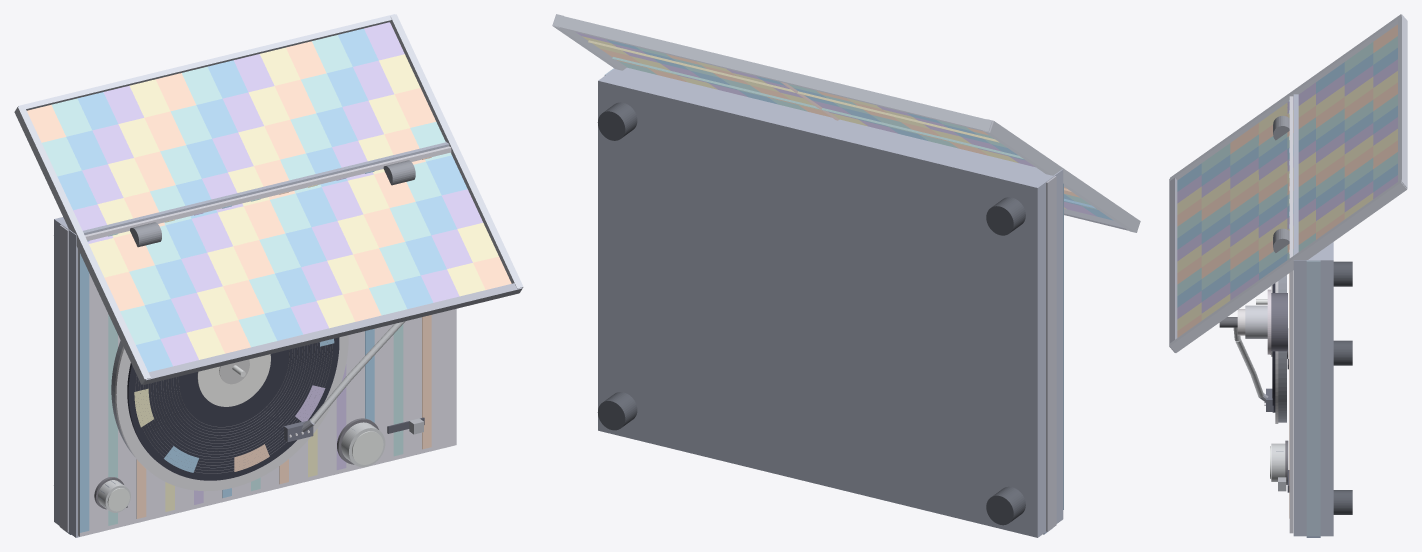
The model's file is turntable.glb.
3 views of the same model, side by side, from view 1: azimuth 30°, elevation 25°; view 2: azimuth 150°, elevation 25°; view 3: azimuth 270°, elevation 25° (orthographic). The views are drawn at different scales.
Parts seen in each view (by area): view 1: top_chrome_deck, black_vinyl, metal_chassis, lid_bottom_rail, platter_shiny_edge, lid_side_rail_-2.35, left_rim, chromatic_deck_band_0, lid_side_rail_2.35, lid_top_rail, center_label, chromatic_deck_band_1 (+121 smaller); view 2: metal_chassis, lid_top_rail, left_rim, lid_side_rail_-2.35, lid_fine_accent_3, lid_fine_accent_4, foot_0_1, foot_0_0, foot_1_0, foot_1_1; view 3: metal_chassis, right_rim, lid_side_rail_2.35, top_chrome_deck, lid_side_rail_-2.35, lid_top_rail, lid_bottom_rail, tonearm_foot, platter_lower, tonearm_center, knob_chrome_1, foot_0_0 (+93 smaller).
Part boxes in pixels (bbox=[...]): top_chrome_deck: bbox=[78, 146, 456, 536]; black_vinyl: bbox=[127, 337, 339, 480]; metal_chassis: bbox=[54, 142, 449, 537]; lid_bottom_rail: bbox=[142, 283, 522, 384]; platter_shiny_edge: bbox=[115, 335, 348, 491]; lid_side_rail_-2.35: bbox=[14, 105, 150, 384]; left_rim: bbox=[59, 225, 68, 532]; chromatic_deck_band_0: bbox=[79, 240, 89, 532]; lid_side_rail_2.35: bbox=[390, 14, 523, 288]; lid_top_rail: bbox=[18, 14, 394, 110]; center_label: bbox=[197, 354, 270, 406]; chromatic_deck_band_1: bbox=[108, 233, 117, 525]; metal_chassis: bbox=[598, 67, 1063, 537]; lid_top_rail: bbox=[553, 14, 992, 131]; left_rim: bbox=[1046, 176, 1056, 531]; lid_side_rail_-2.35: bbox=[983, 119, 1140, 232]; lid_fine_accent_3: bbox=[612, 57, 1023, 159]; lid_fine_accent_4: bbox=[588, 40, 999, 142]; foot_0_1: bbox=[986, 197, 1025, 235]; foot_0_0: bbox=[986, 486, 1025, 525]; foot_1_0: bbox=[597, 392, 637, 430]; foot_1_1: bbox=[597, 102, 637, 140]; metal_chassis: bbox=[1293, 94, 1333, 536]; right_rim: bbox=[1306, 260, 1320, 536]; lid_side_rail_2.35: bbox=[1170, 180, 1407, 352]; top_chrome_deck: bbox=[1289, 96, 1293, 533]; lid_side_rail_-2.35: bbox=[1170, 14, 1401, 180]; lid_top_rail: bbox=[1398, 14, 1407, 188]; lid_bottom_rail: bbox=[1169, 177, 1177, 352]; tonearm_foot: bbox=[1271, 293, 1287, 351]; platter_lower: bbox=[1278, 275, 1286, 422]; tonearm_center: bbox=[1245, 305, 1267, 338]; knob_chrome_1: bbox=[1271, 443, 1285, 481]; foot_0_0: bbox=[1333, 340, 1352, 365].
Size of the model in its own units: 4.84 by 4.71 by 2.86.
